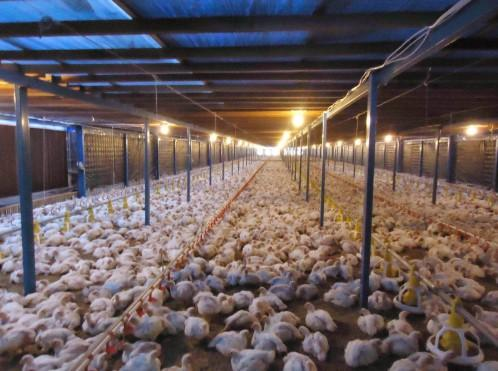chicken: (297, 323, 329, 360), (231, 346, 276, 371), (211, 328, 251, 355), (304, 301, 336, 333), (280, 350, 325, 371), (345, 338, 380, 365), (126, 348, 165, 371), (385, 328, 422, 352), (129, 314, 165, 338), (195, 292, 229, 315), (328, 285, 362, 308), (357, 307, 383, 335), (185, 314, 211, 338), (389, 309, 411, 331)
